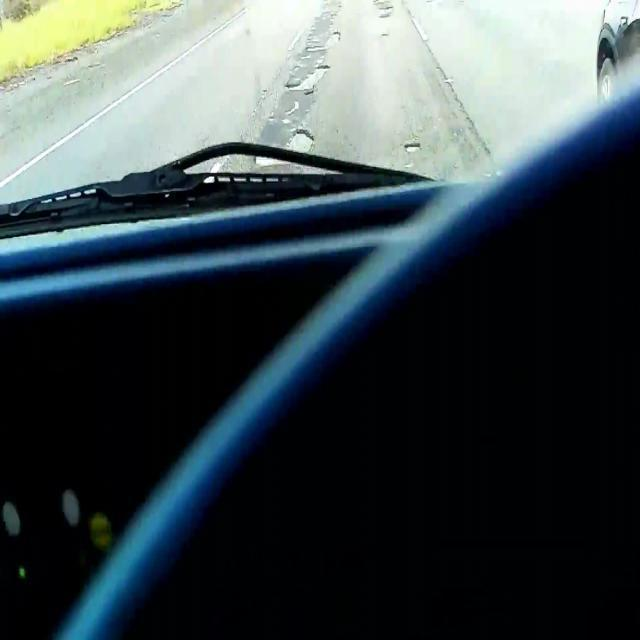pothole: (286, 63, 331, 92), (307, 32, 343, 53), (286, 128, 317, 152), (251, 154, 291, 167), (404, 144, 422, 153)
